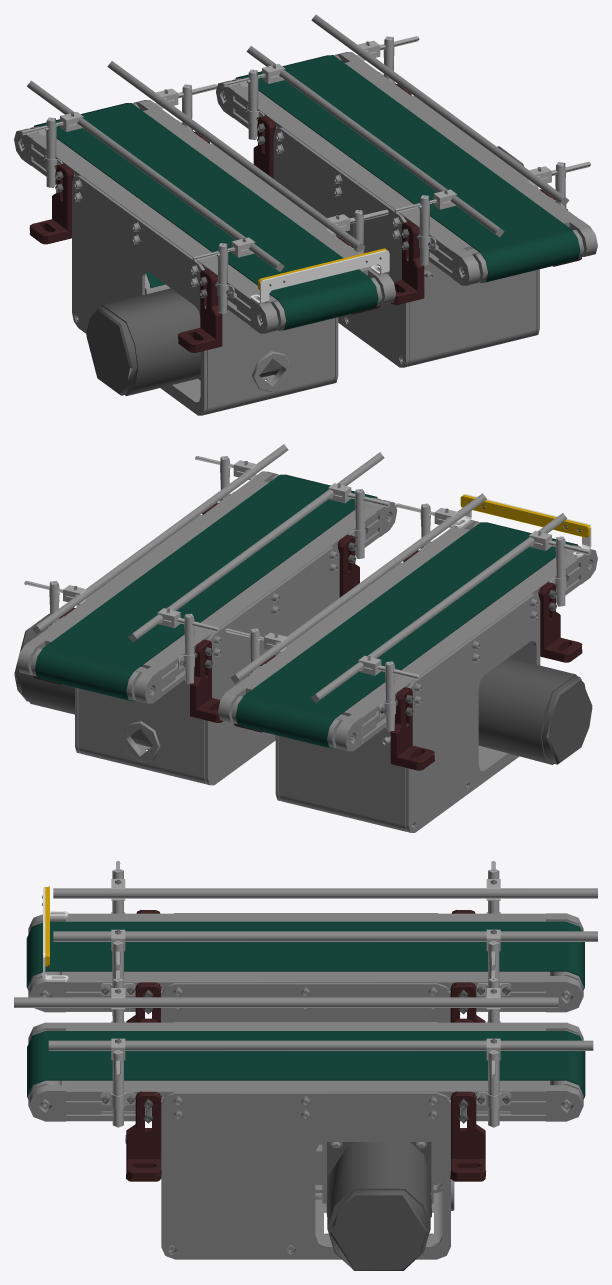
File: Conveyors.fbx
3 views of the same model, one above another, from view 1: azimuth 30°, elevation 25°; view 2: azimuth 150°, elevation 25°; view 3: azimuth 270°, elevation 25° (orthographic). The views are drawn at different scales.
Visible parts, largest first — view 1: conveyors_system; view 2: conveyors_system; view 3: conveyors_system.
Boxes of the visible parts, bbox=[...] form: conveyors_system: bbox=[14, 14, 597, 415]; conveyors_system: bbox=[14, 444, 597, 832]; conveyors_system: bbox=[14, 861, 597, 1270].
Size of the model in its own units: 0.514 by 0.504 by 0.2021.
